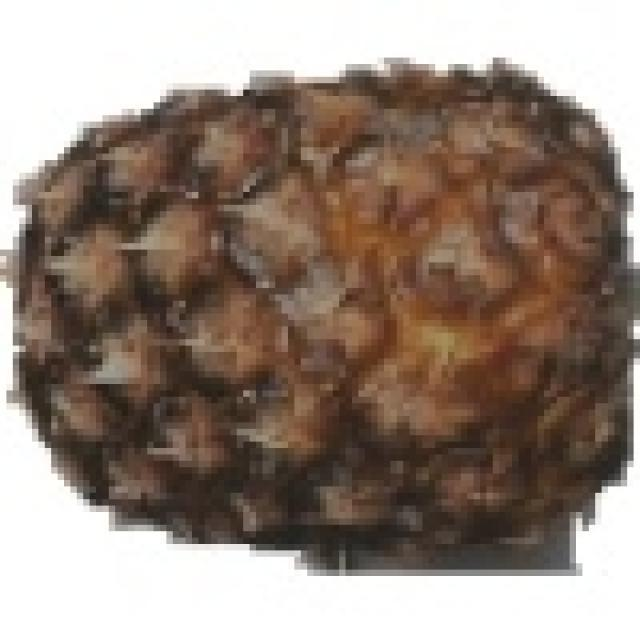pineapple: (13, 58, 614, 557)
